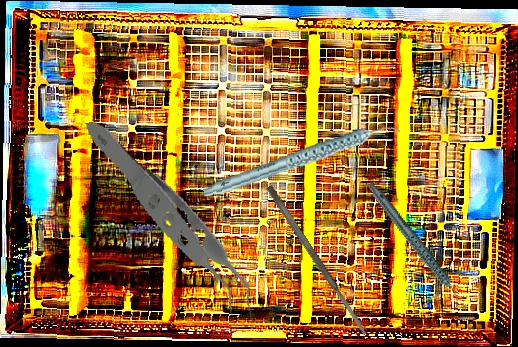Handpiece: (198, 124, 406, 199), (367, 168, 463, 321)
Spatula Surgical: (265, 184, 369, 337)
Tissue Forceps: (82, 99, 258, 347)
